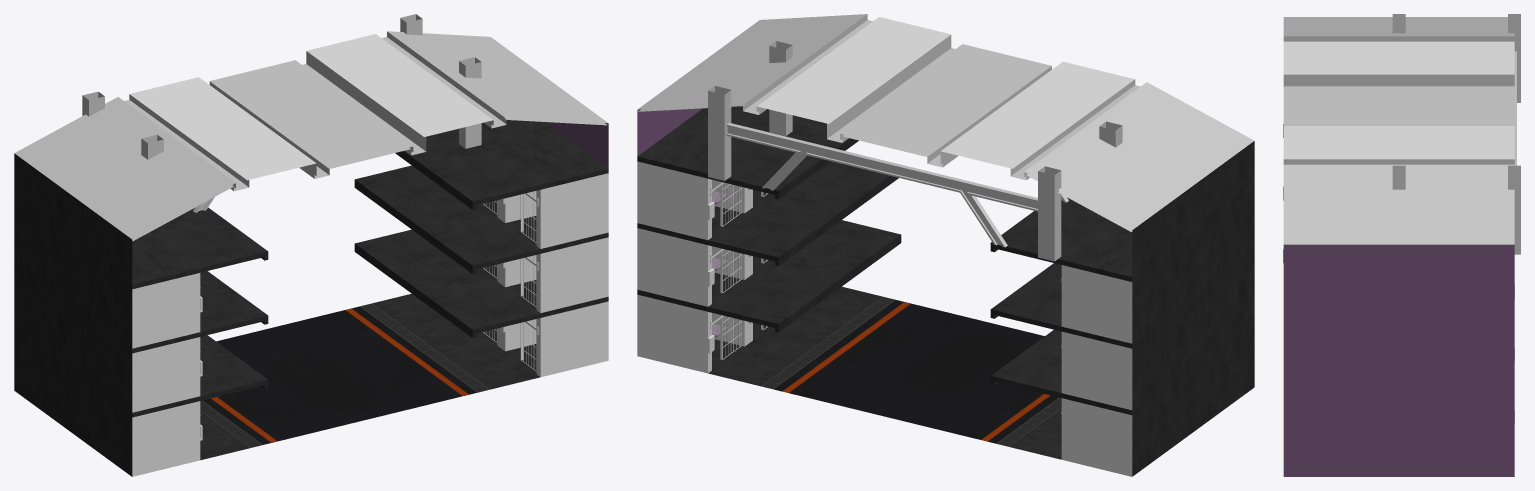
The model's file is meshset_cell.fbx.
3 views of the same model, side by side, from view 1: azimuth 30°, elevation 25°; view 2: azimuth 150°, elevation 25°; view 3: azimuth 270°, elevation 25° (orthographic). The views are drawn at different scales.
Visible parts, largest first — view 1: cell_set; view 2: cell_set; view 3: cell_set.
Boxes of the visible parts, box(x1,y1,x2,y2) form: cell_set: box(14, 14, 608, 476); cell_set: box(637, 14, 1254, 476); cell_set: box(1283, 14, 1520, 476).
Bounding box in the file's own units: 2100 × 1160 × 928.
